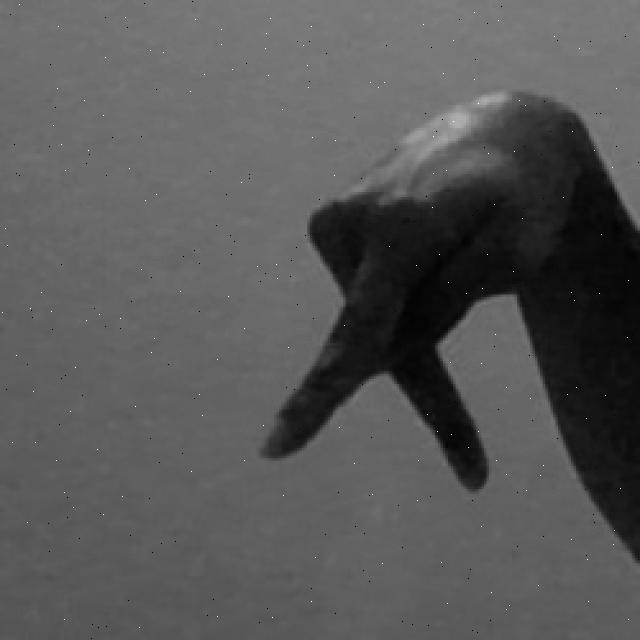P: (252, 85, 640, 573)
